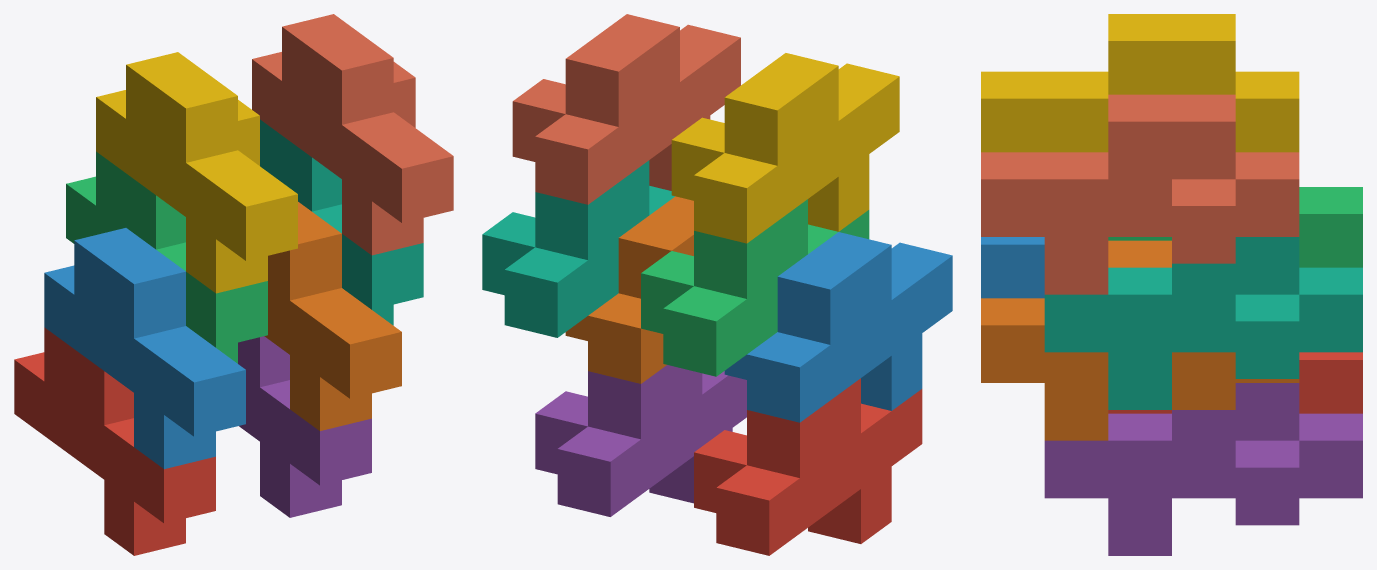
The model's file is tiling.obj.
The picture shows the model from 3 angles, left to right: view 1: azimuth 30°, elevation 25°; view 2: azimuth 150°, elevation 25°; view 3: azimuth 270°, elevation 25°; orthographic projection. The views are drawn at different scales.
Visible parts, largest first — view 1: copy_1_domain_4, copy_1_domain_8, copy_1_domain_2, copy_1_domain_1, copy_1_domain_6, copy_1_domain_5, copy_1_domain_3, copy_1_domain_7; view 2: copy_1_domain_4, copy_1_domain_8, copy_1_domain_2, copy_1_domain_1, copy_1_domain_5, copy_1_domain_3, copy_1_domain_7, copy_1_domain_6; view 3: copy_1_domain_8, copy_1_domain_5, copy_1_domain_7, copy_1_domain_4, copy_1_domain_6, copy_1_domain_3, copy_1_domain_1, copy_1_domain_2.
Part boxes in pixels (x1,y1,x2,y2): copy_1_domain_4: (96,52,297,293); copy_1_domain_8: (252,14,453,255); copy_1_domain_2: (44,228,245,469); copy_1_domain_1: (14,327,215,555); copy_1_domain_6: (264,202,401,430); copy_1_domain_5: (238,336,371,517); copy_1_domain_3: (66,151,267,363); copy_1_domain_7: (260,119,423,325); copy_1_domain_4: (671,53,899,243); copy_1_domain_8: (512,14,740,204); copy_1_domain_2: (724,232,952,422); copy_1_domain_1: (694,378,922,555); copy_1_domain_5: (535,365,746,516); copy_1_domain_3: (641,199,869,376); copy_1_domain_7: (482,160,674,337); copy_1_domain_6: (565,196,693,383); copy_1_domain_8: (981,94,1299,294); copy_1_domain_5: (1044,383,1362,555); copy_1_domain_7: (1044,237,1362,409); copy_1_domain_4: (981,14,1299,152); copy_1_domain_6: (981,240,1299,440); copy_1_domain_3: (1108,187,1362,267); copy_1_domain_1: (1108,352,1362,413); copy_1_domain_2: (981,237,1044,298).
Size of the model in its own units: 6 by 8 by 6.
